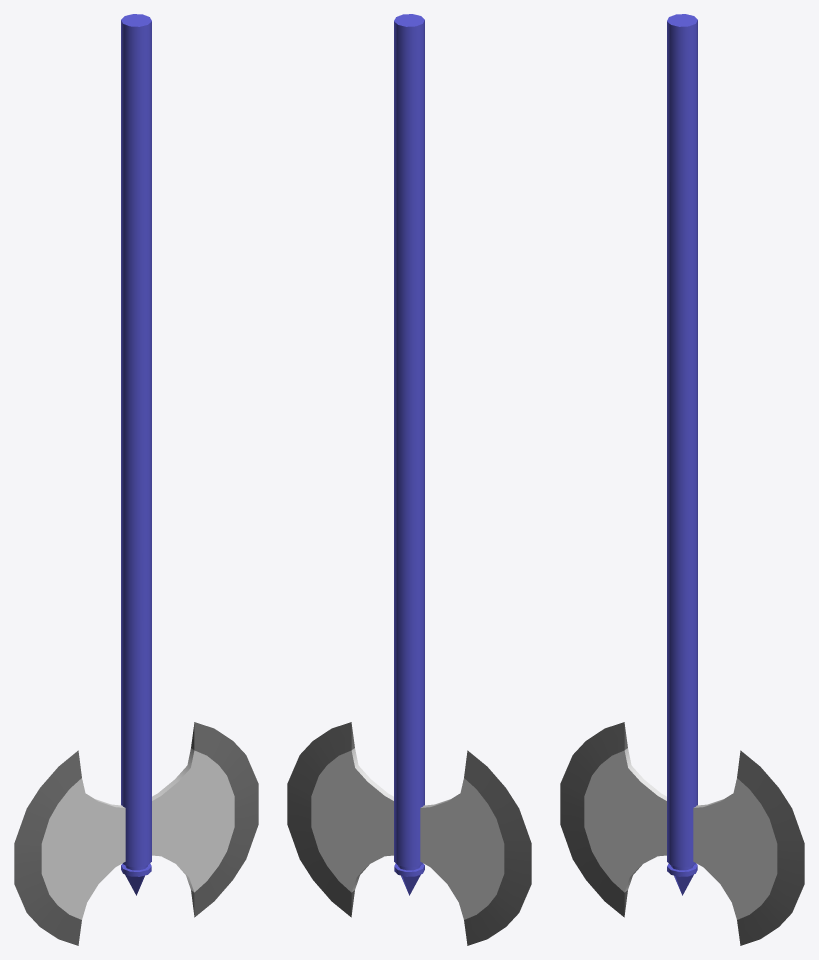
File: Axe.fbx
The picture shows the model from 3 angles, left to right: view 1: azimuth 30°, elevation 25°; view 2: azimuth 150°, elevation 25°; view 3: azimuth 330°, elevation 25°; orthographic projection.
Parts seen in each view (by area): view 1: Axe; view 2: Axe; view 3: Axe.
Boxes of the visible parts, x1=… form: Axe: x1=14, y1=14, x2=258, y2=945; Axe: x1=287, y1=14, x2=531, y2=945; Axe: x1=560, y1=14, x2=804, y2=945.
Size of the model in its own units: 9.77 by 34.83 by 1.03.
